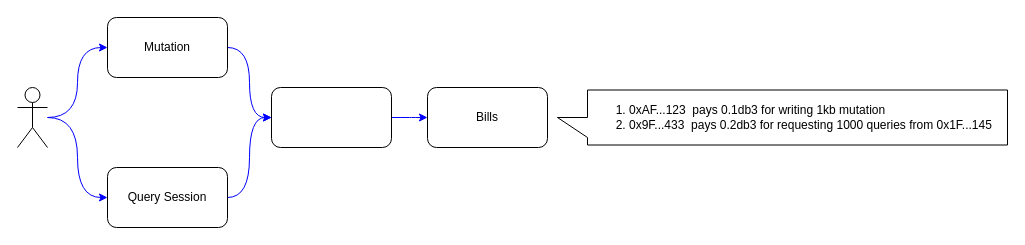
The diagram is 1025 pixels wide and 245 high, and some of its shapes have lost their labels. The centre of each missing label's shape, as x and y in pixels:
Gas System: (x=331, y=117)
User: (x=32, y=117)
